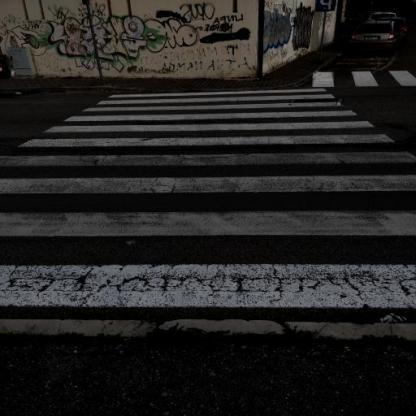crosswalk: (0, 169, 416, 245), (9, 119, 400, 153), (93, 89, 343, 107), (351, 68, 415, 89)
